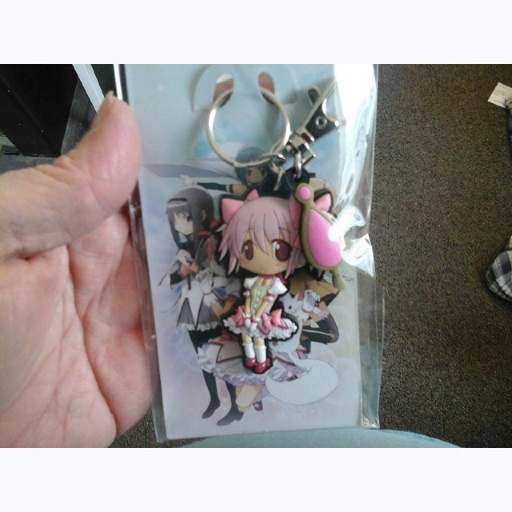hand: (0, 64, 160, 459), (197, 268, 216, 294), (176, 248, 193, 264), (313, 305, 328, 321), (177, 174, 193, 185), (243, 319, 249, 329), (248, 323, 254, 333)
